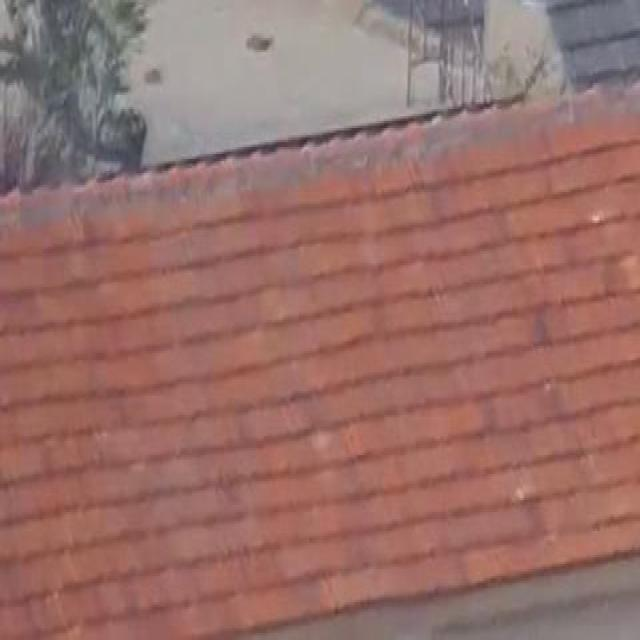other: (28, 174, 630, 569)
